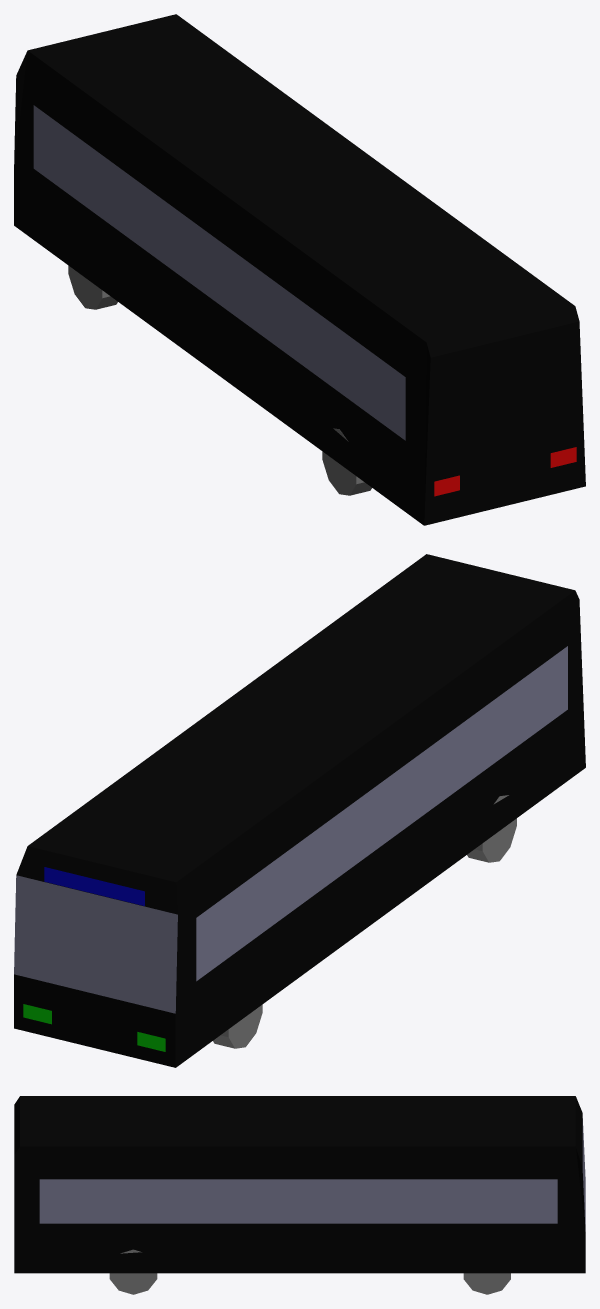
Rendered from veh_bus.glb.
The picture shows the model from 3 angles, top to bottom: view 1: azimuth 30°, elevation 25°; view 2: azimuth 150°, elevation 25°; view 3: azimuth 270°, elevation 25°; orthographic projection. The views are drawn at different scales.
Visible parts, largest first — view 1: veh_bus; view 2: veh_bus; view 3: veh_bus.
Part boxes in pixels (x1,y1,x2,y2): veh_bus: (14, 14, 585, 525); veh_bus: (14, 554, 585, 1067); veh_bus: (14, 1096, 585, 1294).
Size of the model in its own units: 2.51 by 3.1 by 10.99.
